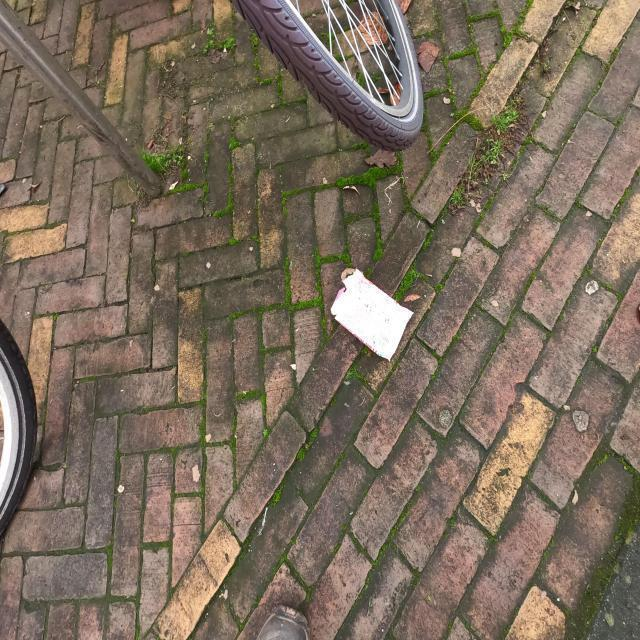Plastic: (330, 266, 416, 364)
